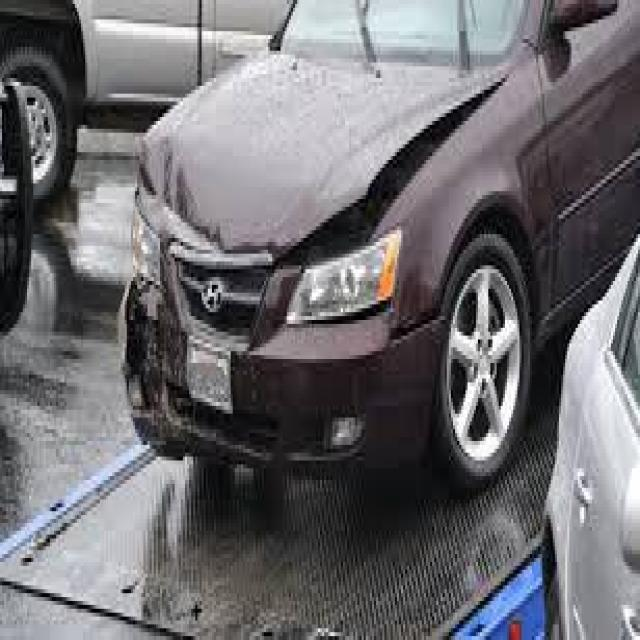damaged: (120, 141, 284, 472), (280, 78, 518, 262)
